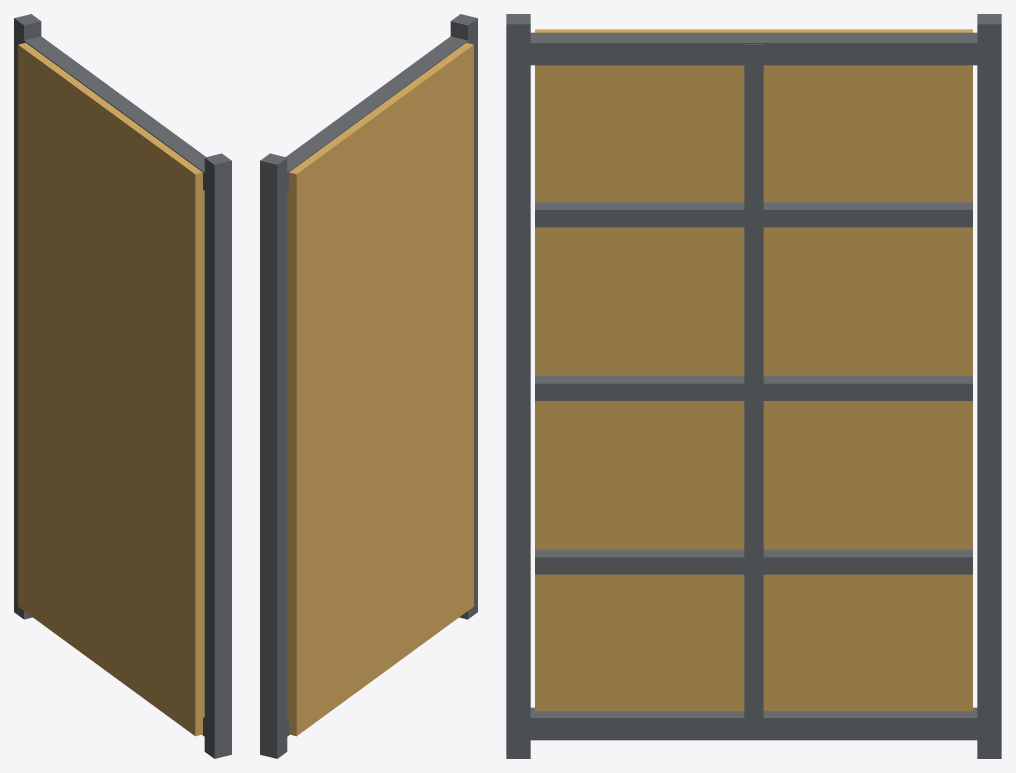
Rendered from Glazing__Leaded.fbx.
3 renders of one model, left to right at view 1: azimuth 30°, elevation 25°; view 2: azimuth 150°, elevation 25°; view 3: azimuth 270°, elevation 25°, orthographic. The views are drawn at different scales.
Visible parts, largest first — view 1: Glazing__Leaded; view 2: Glazing__Leaded; view 3: Glazing__Leaded.
Part boxes in pixels (x1=…): Glazing__Leaded: x1=14, y1=14, x2=231, y2=758; Glazing__Leaded: x1=260, y1=14, x2=477, y2=758; Glazing__Leaded: x1=506, y1=14, x2=1001, y2=758.
Size of the model in its own units: 6.75 by 148 by 90.5.
Materials: 1 (1 with a texture image).
